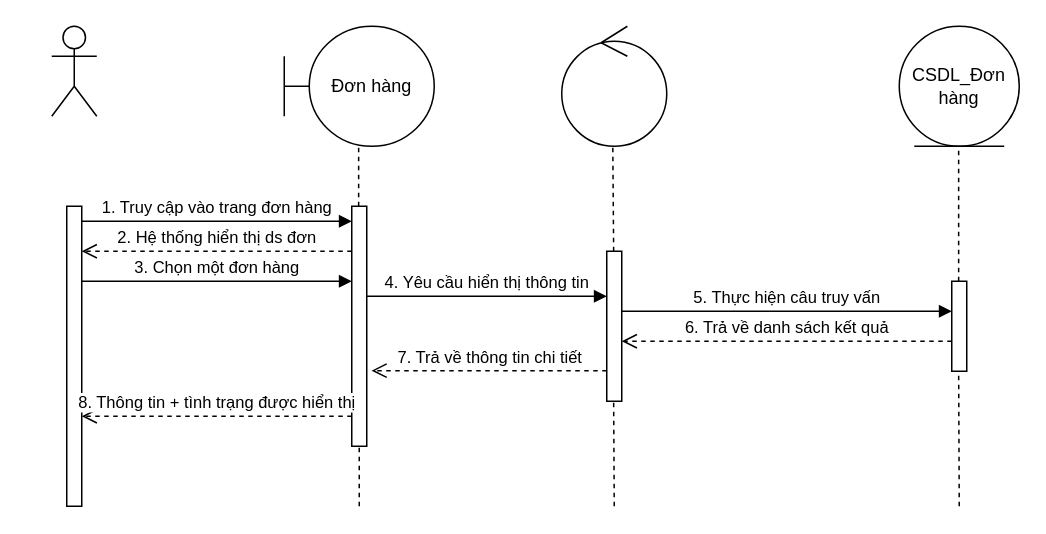
This 1046x534 diagram has some shape labels left out. The shapes that lost their labels are listed below. From the top down, each one's centre as x and y in pixels, then its label:
At point (73, 70): "Khách hàng".
At point (613, 85): "Control_đơn hàng".
